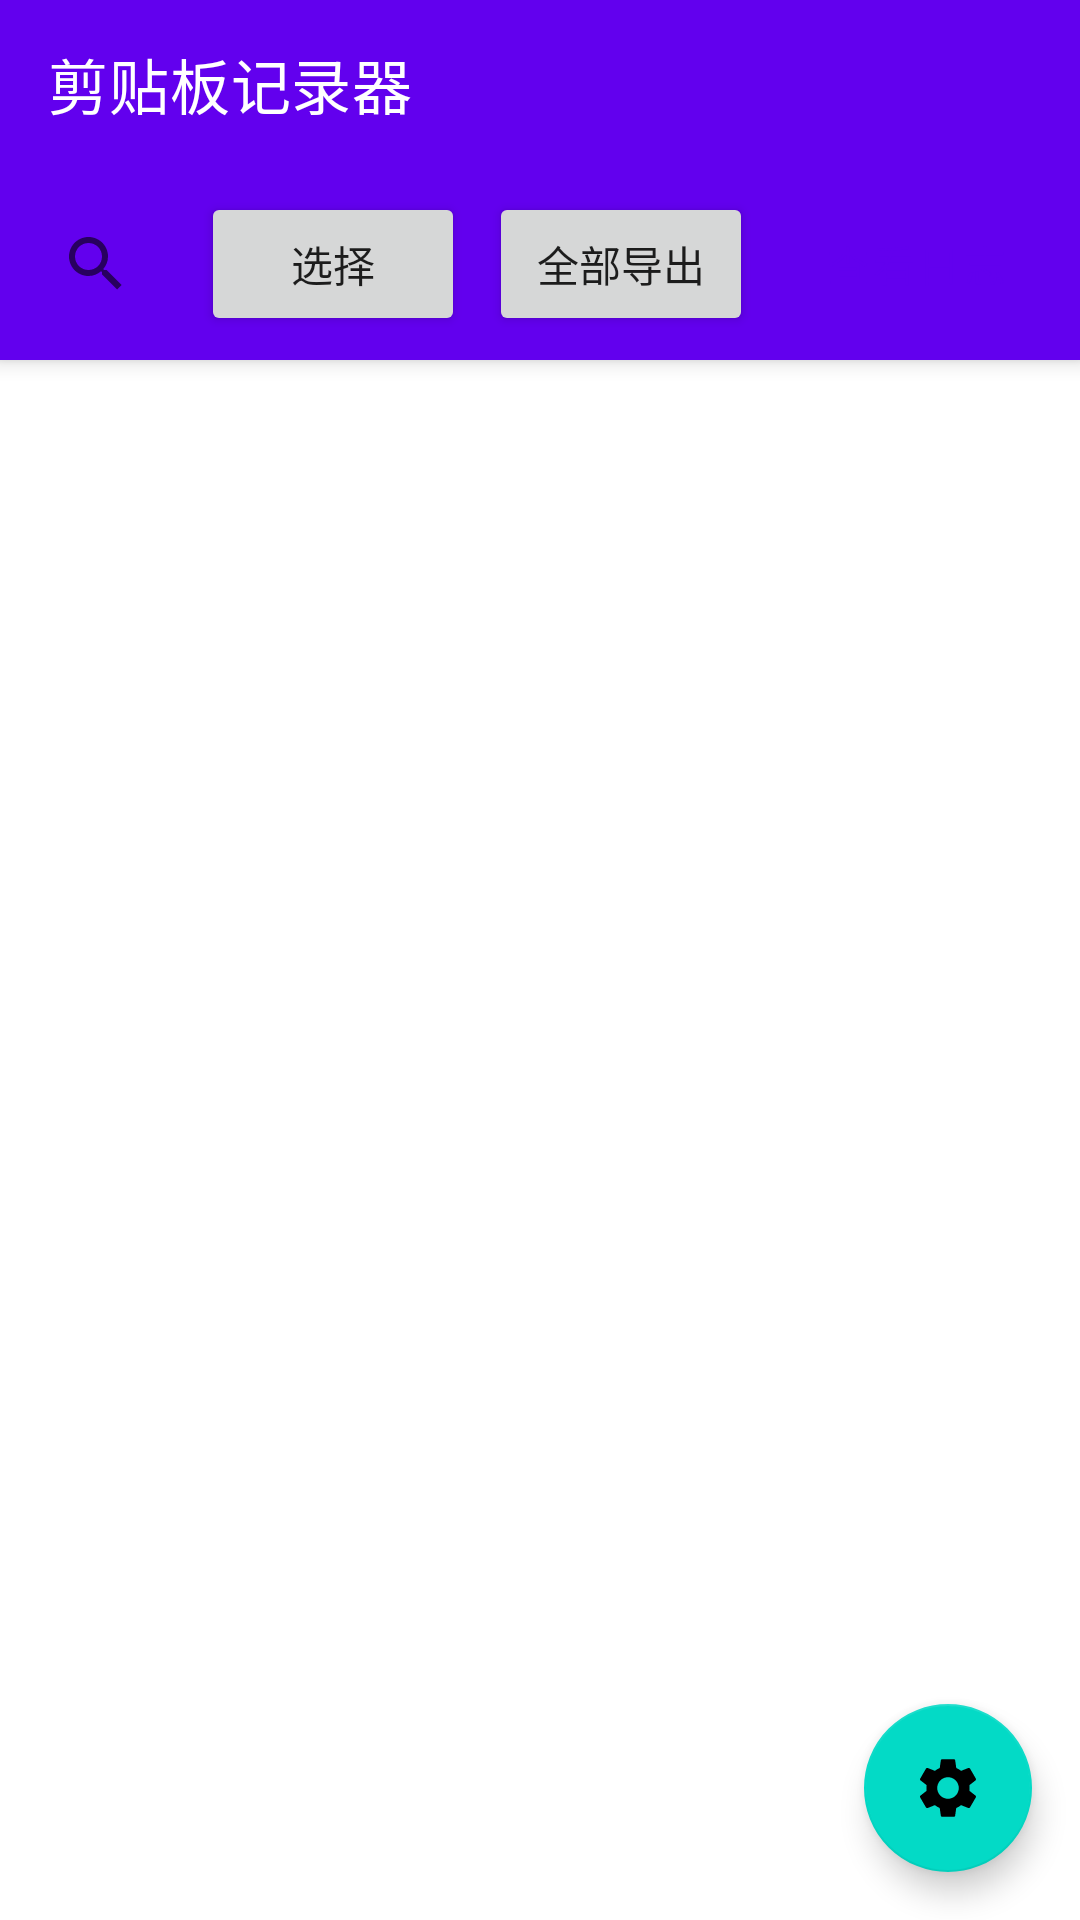

Named icons in this screenshot (1080px x 1920px) and their centers, (x,y):
设置: (948,1788)
